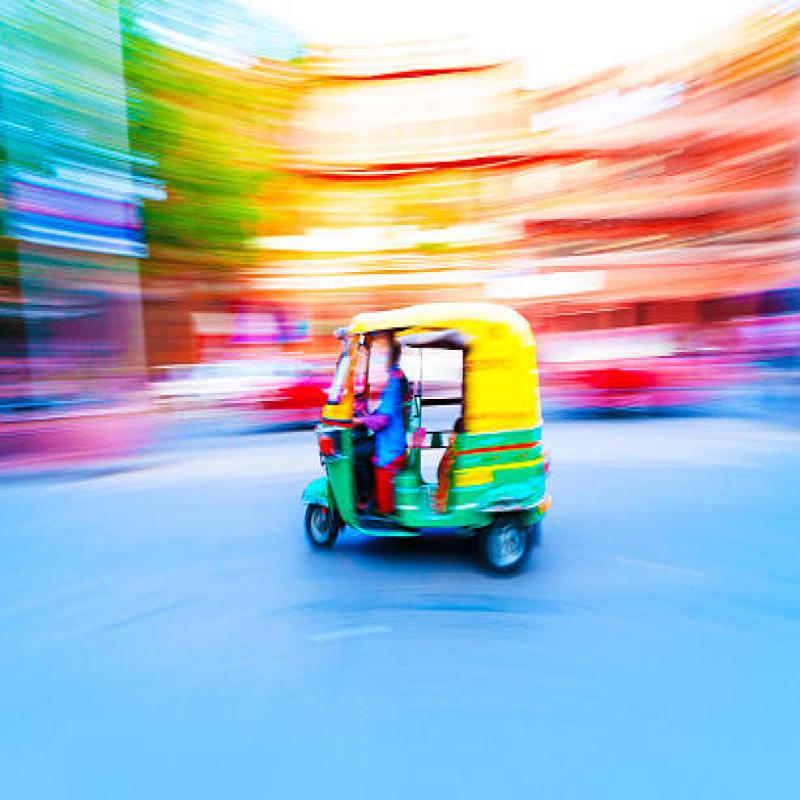auto: (294, 307, 554, 569)
